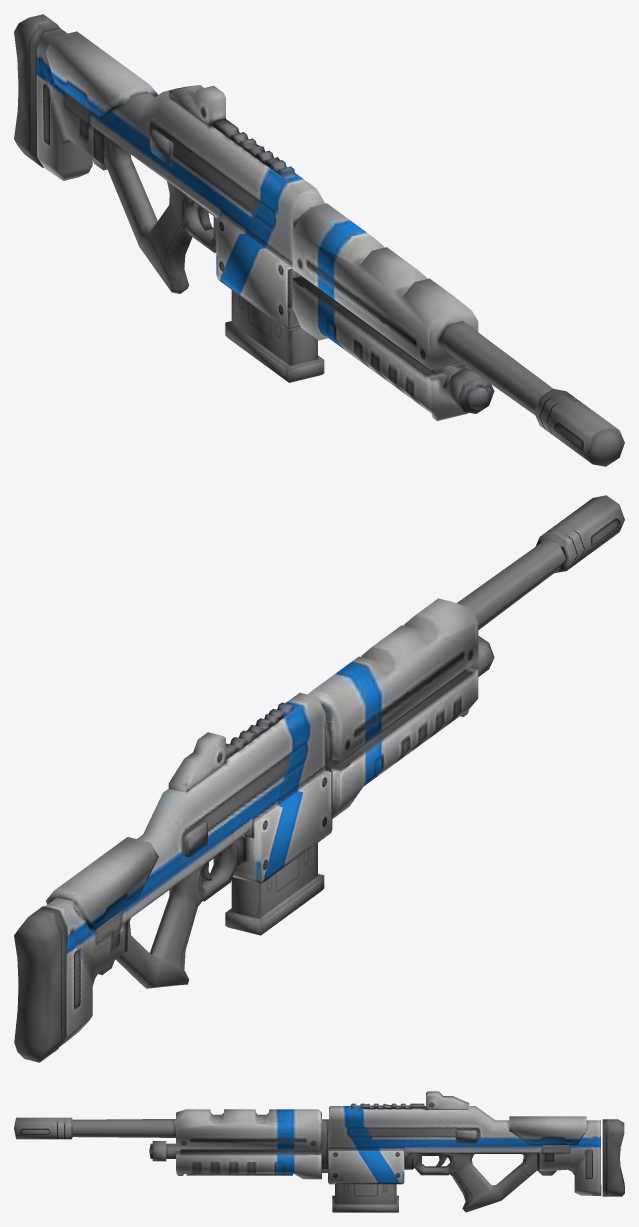
The model's file is rifle.glb.
The picture shows the model from 3 angles, top to bottom: view 1: azimuth 30°, elevation 25°; view 2: azimuth 150°, elevation 25°; view 3: azimuth 270°, elevation 25°; orthographic projection. The views are drawn at different scales.
Visible parts, largest first — view 1: tripo_node_63f5dbd4-054b-4990-8b32-21405d27947a; view 2: tripo_node_63f5dbd4-054b-4990-8b32-21405d27947a; view 3: tripo_node_63f5dbd4-054b-4990-8b32-21405d27947a.
Boxes of the visible parts, left/top/right/bottom form: tripo_node_63f5dbd4-054b-4990-8b32-21405d27947a: left=14, top=14, right=624, bottom=466; tripo_node_63f5dbd4-054b-4990-8b32-21405d27947a: left=14, top=495, right=624, bottom=1062; tripo_node_63f5dbd4-054b-4990-8b32-21405d27947a: left=14, top=1091, right=624, bottom=1212.
Size of the model in its own units: 0.0592 by 0.2681 by 1.25.
1 material, 1 textured.
